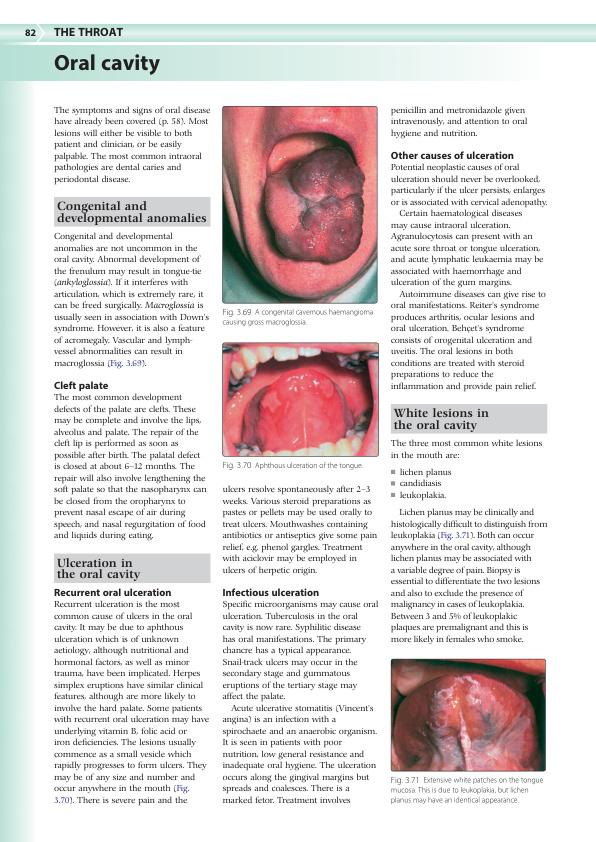caption: (390, 776, 545, 805), (222, 308, 374, 327), (222, 461, 364, 471)
chapter-heading: (52, 52, 162, 76)
header: (52, 27, 125, 38)
image: (222, 105, 378, 304), (221, 341, 379, 457), (390, 658, 546, 772)
list: (390, 466, 453, 502)
section-heading: (56, 200, 207, 226), (393, 407, 491, 433), (56, 557, 141, 582)
sub-section-heading: (390, 150, 515, 161), (53, 588, 172, 597), (222, 587, 320, 597), (53, 380, 110, 392)
text: (391, 163, 548, 393), (222, 599, 382, 805), (53, 600, 208, 807), (53, 393, 208, 542), (53, 232, 211, 370), (390, 508, 549, 645), (222, 484, 379, 577), (53, 104, 212, 186), (390, 105, 529, 140), (390, 438, 544, 460)
